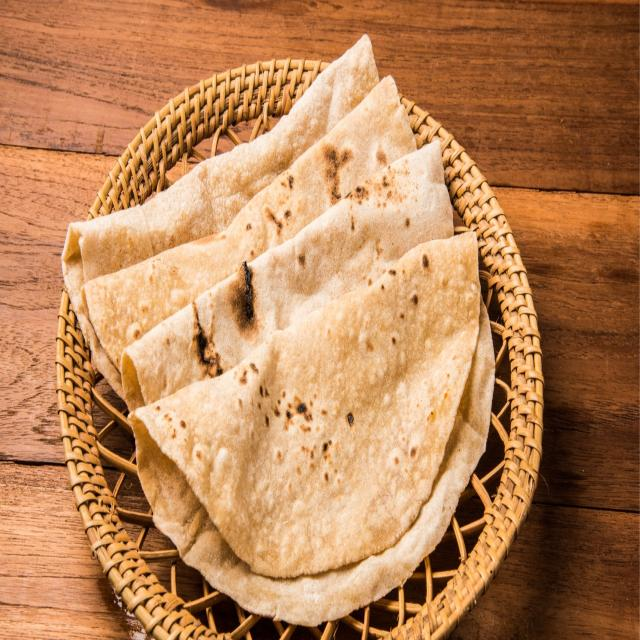chapati: (62, 34, 503, 610)
